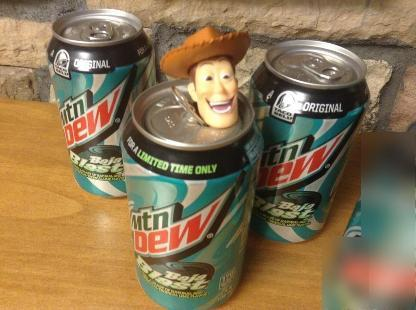Can: (121, 81, 265, 309), (250, 41, 370, 243), (44, 9, 156, 197)
